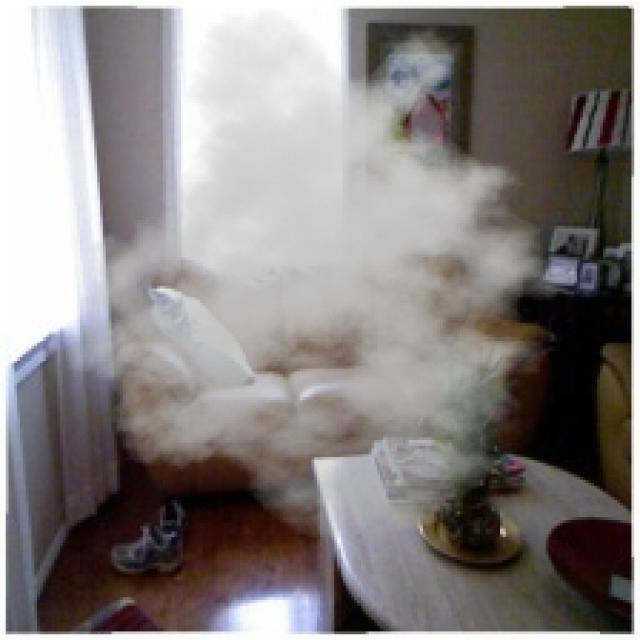Smoke: (54, 6, 603, 540)
